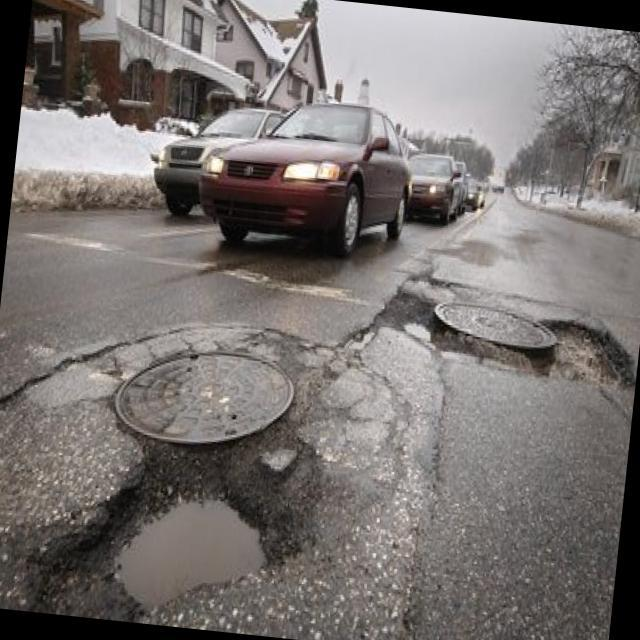Pothole: (92, 450, 284, 616), (536, 314, 639, 398), (381, 293, 444, 369)
